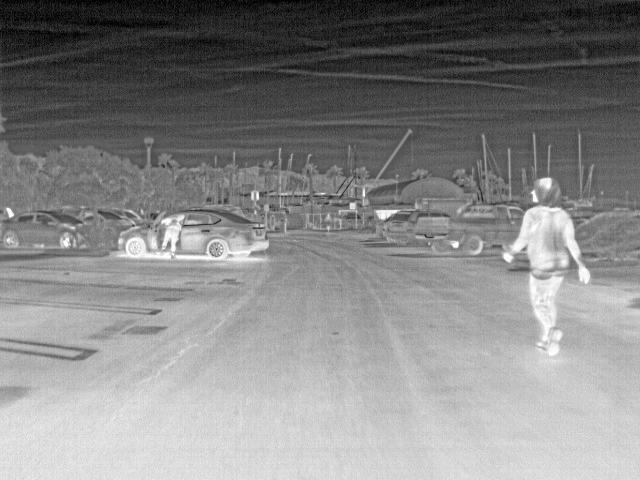car: (414, 203, 523, 257), (182, 206, 268, 262), (0, 212, 92, 252), (116, 212, 161, 260), (381, 211, 416, 247), (91, 209, 119, 227)
person: (524, 175, 572, 358), (162, 214, 182, 262), (324, 212, 331, 230)
